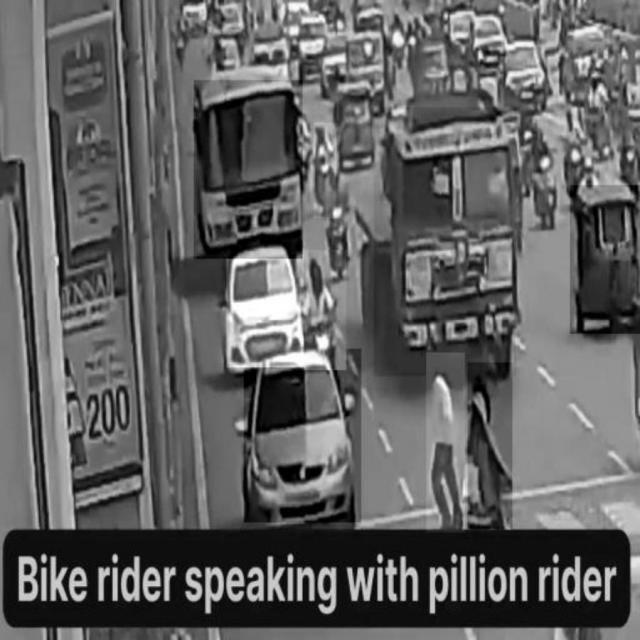person: (468, 363, 513, 529), (427, 352, 465, 532)
vehicle: (374, 108, 516, 376), (243, 349, 361, 523), (194, 80, 302, 258), (570, 185, 640, 333), (227, 249, 304, 367), (305, 250, 347, 370), (314, 123, 336, 219)
